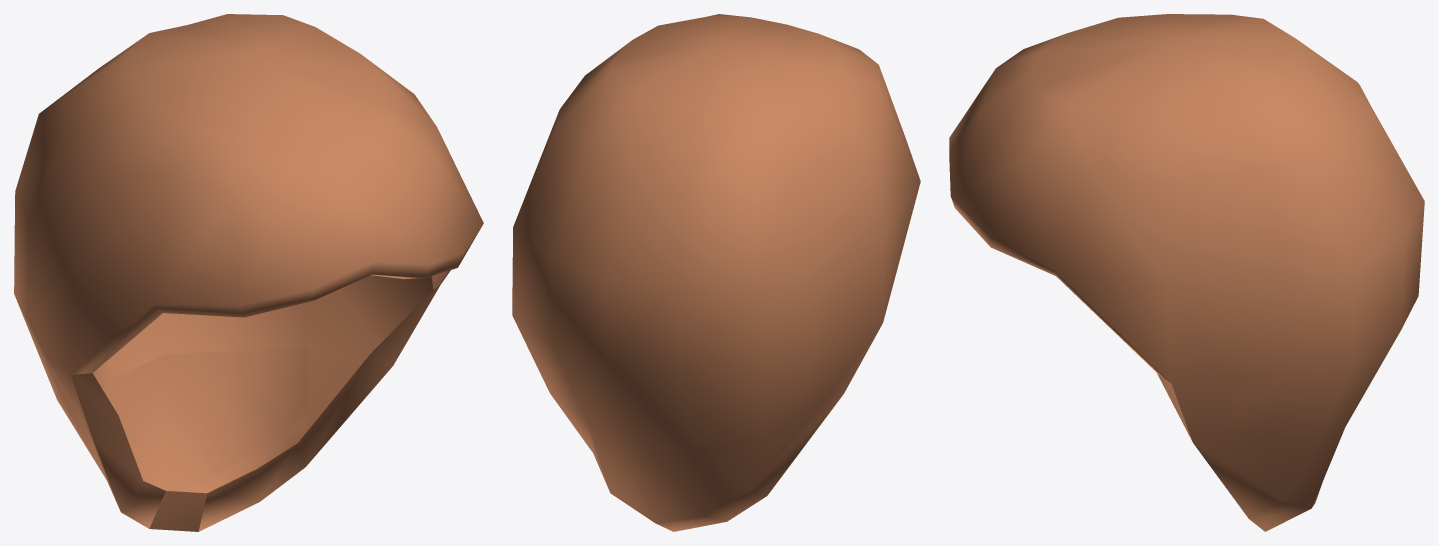
The model's file is FancyKid.fbx.
3 views of the same model, side by side, from view 1: azimuth 30°, elevation 25°; view 2: azimuth 150°, elevation 25°; view 3: azimuth 270°, elevation 25° (orthographic). The views are drawn at different scales.
Parts seen in each view (by area): view 1: 03 Hair - Fancy Kid; view 2: 03 Hair - Fancy Kid; view 3: 03 Hair - Fancy Kid.
Boxes of the visible parts, x1,y1,x2,y2 form: 03 Hair - Fancy Kid: (14,14,483,531); 03 Hair - Fancy Kid: (512,14,920,531); 03 Hair - Fancy Kid: (949,14,1424,531).
Bounding box in the file's own units: 0.2214 × 0.2963 × 0.2626.
